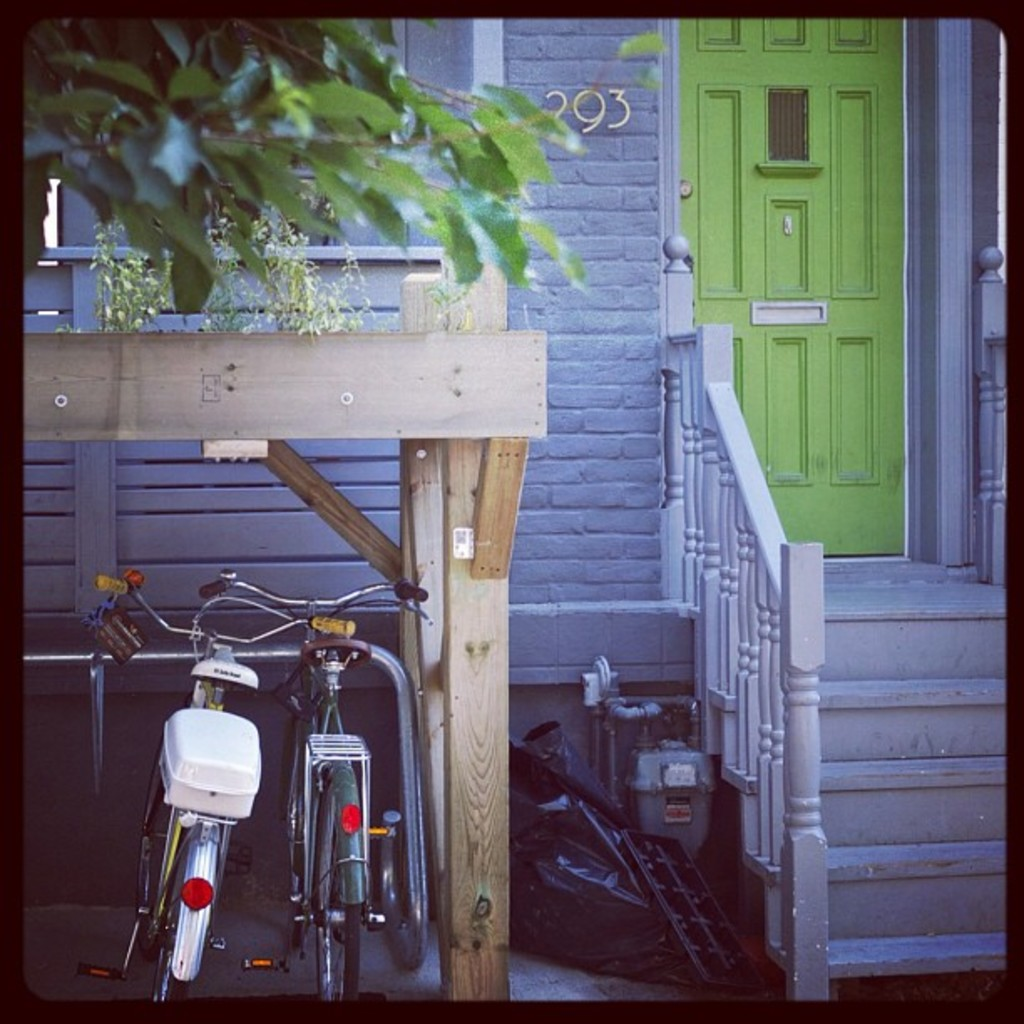door: (685, 33, 905, 546)
